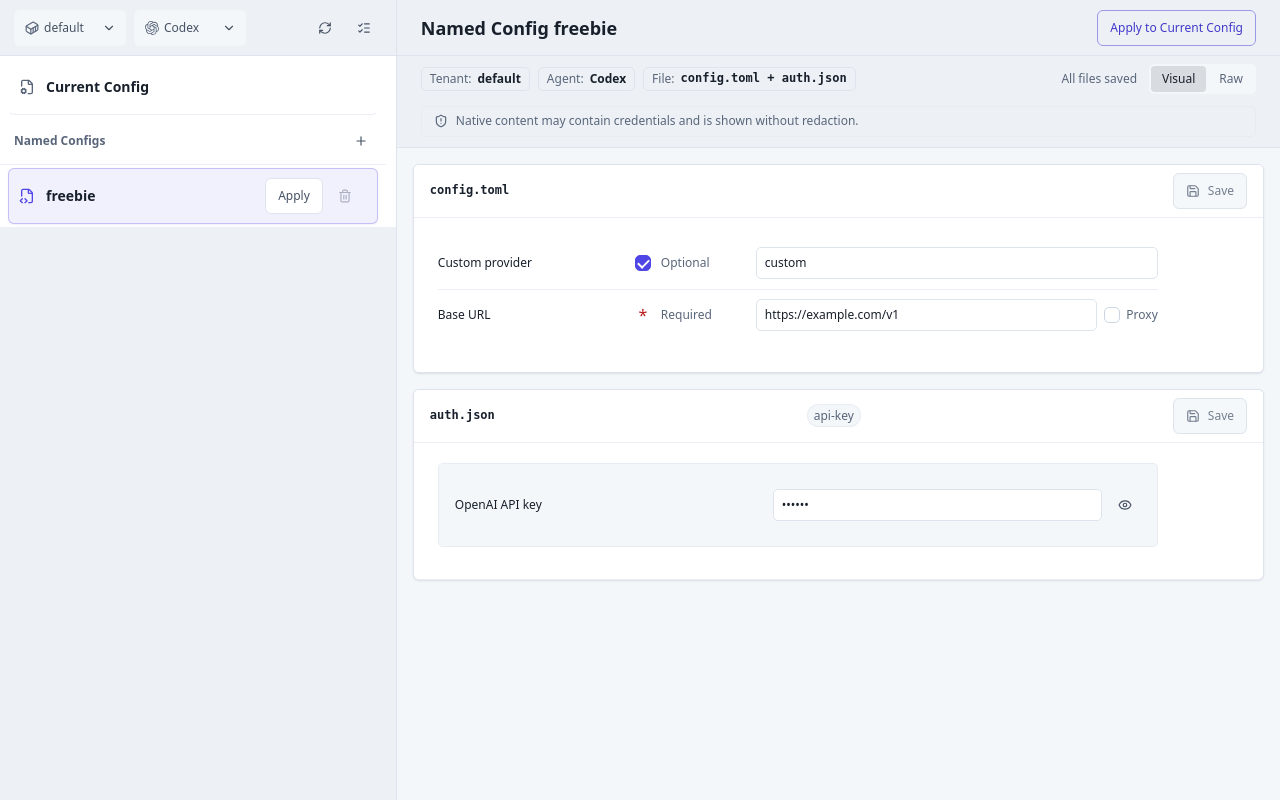
Test: ConfigPage › keeps the Custom provider Save gate on the main file while auth.json is dirty
Clear the field named "Custom provider name" at (957, 263), box [756, 247, 1158, 279]
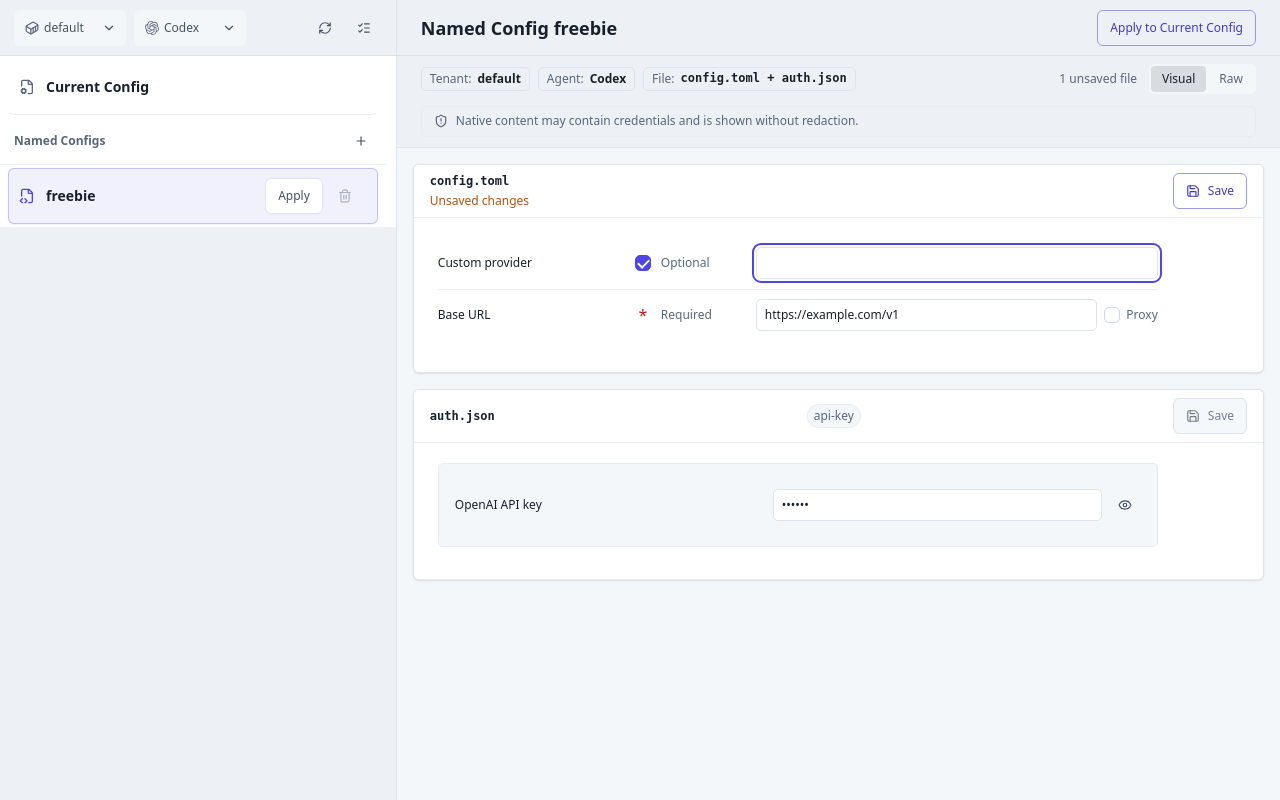
Type "custom-v2" into the field named "Custom provider name".
click(957, 263); type("custom-v2")  # box [756, 247, 1158, 279]
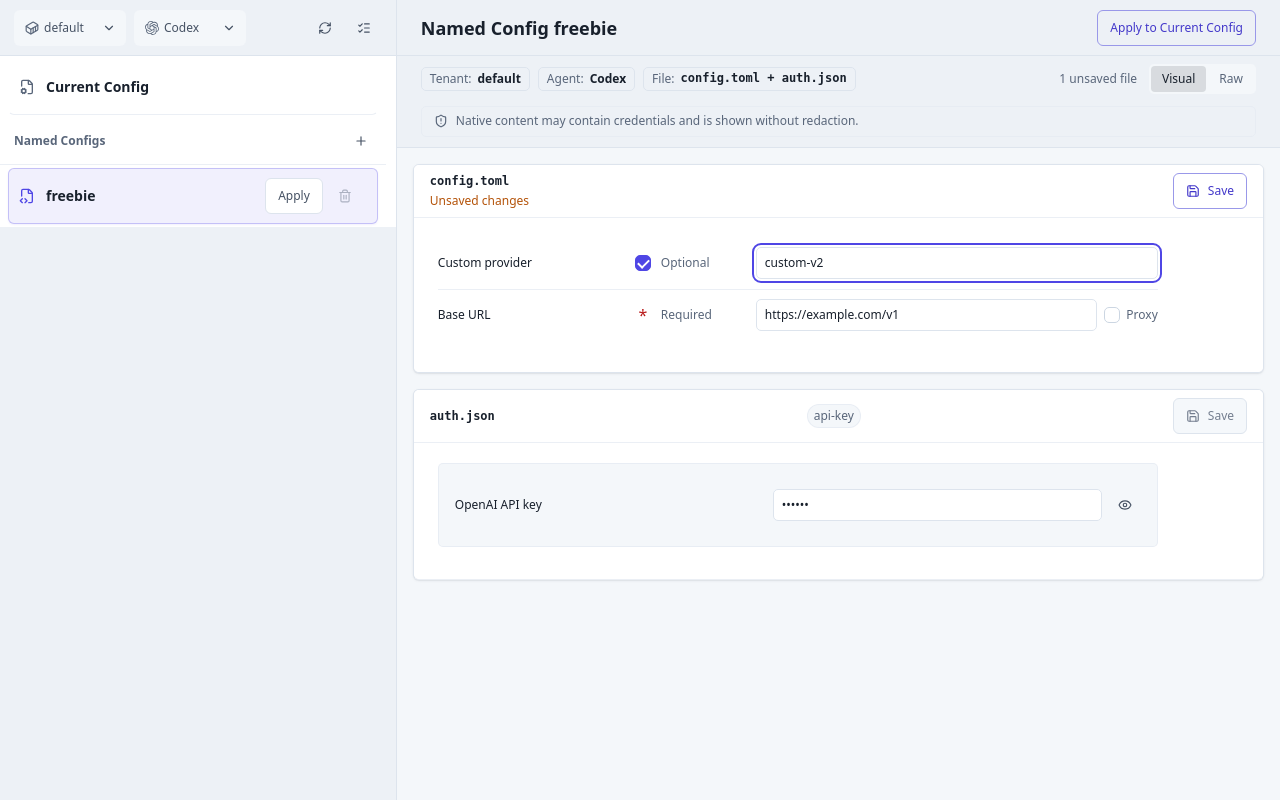
Clear the password field named "OpenAI API key" at (937, 505), box [773, 489, 1102, 521]
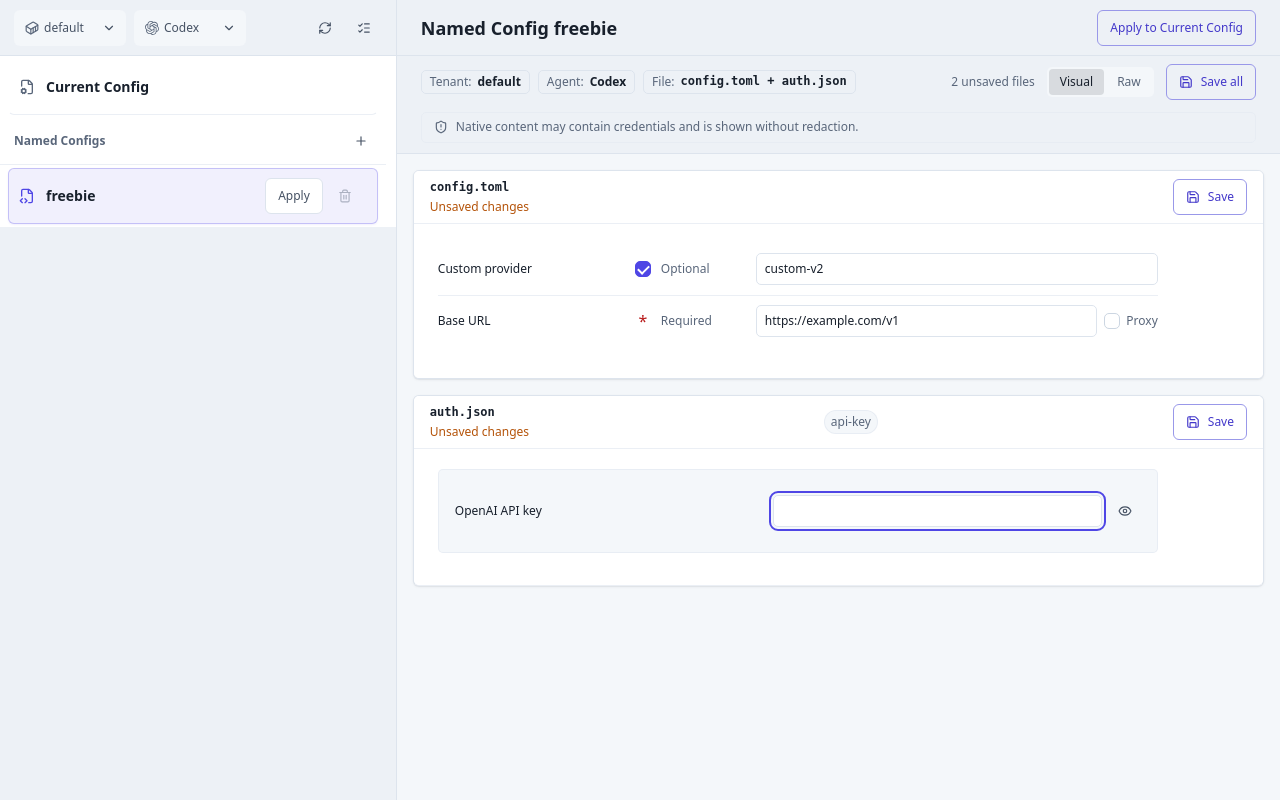
Type "sk-new" into the password field named "OpenAI API key".
click(937, 511); type("sk-new")  # box [773, 495, 1102, 527]
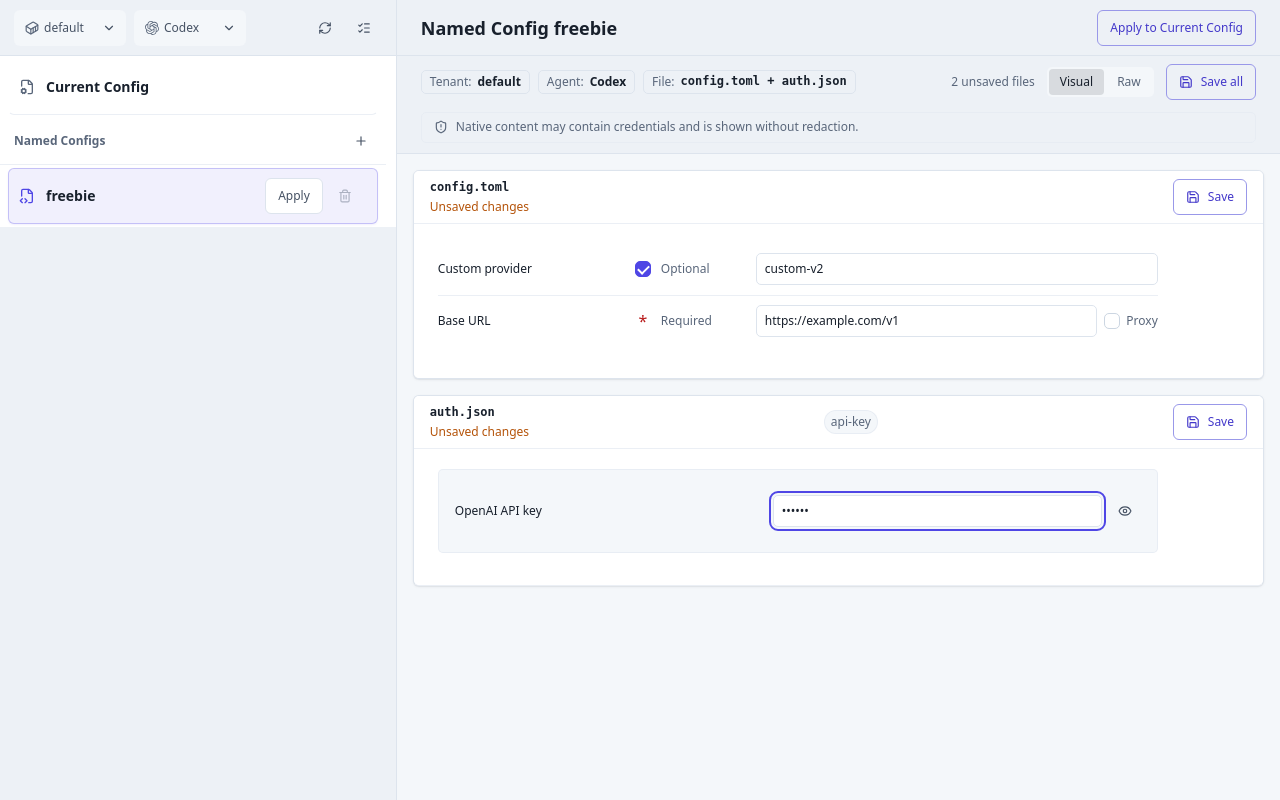
Now the button "Save all" is enabled, box [1166, 64, 1256, 100]
Click the 1st button "Save".
click(1210, 197)  # box [1173, 179, 1247, 215]
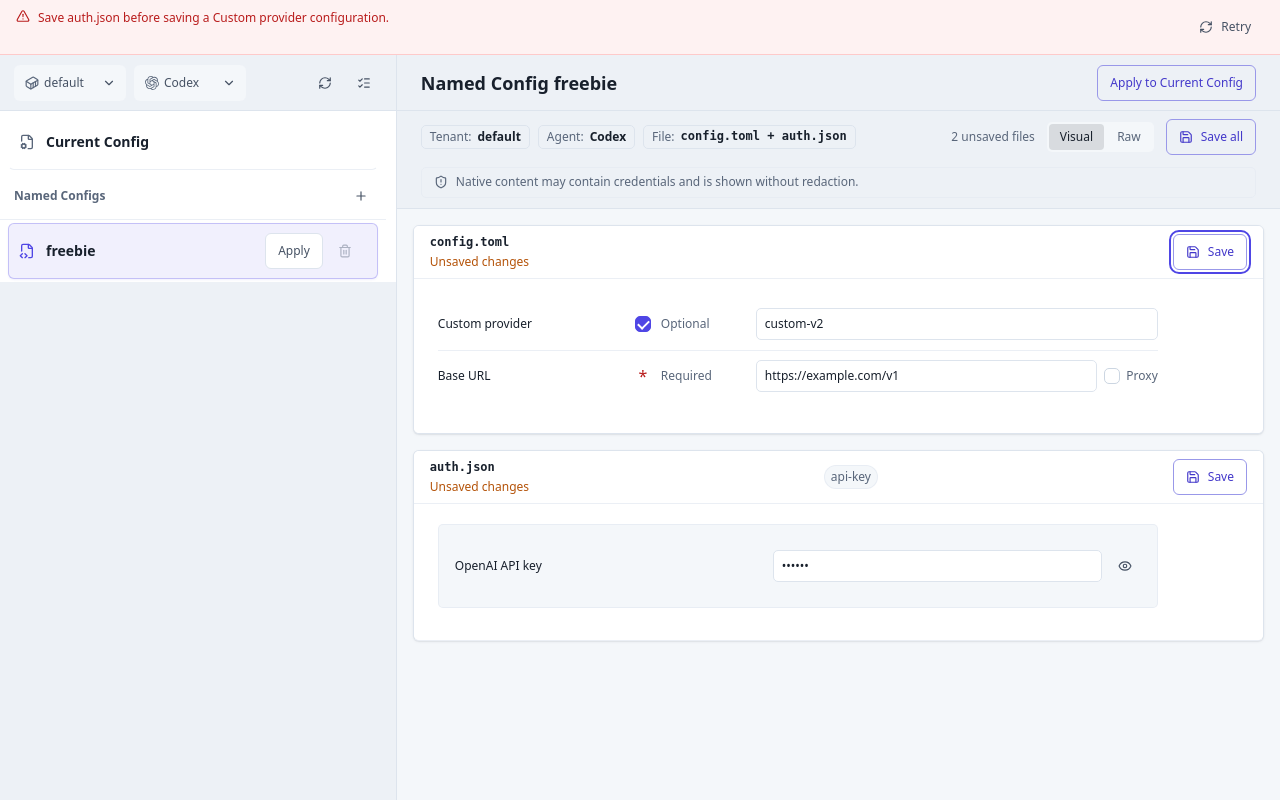
Now the text "Save auth.json before saving a Custom provider configuration." is shown, box [38, 9, 389, 26]
